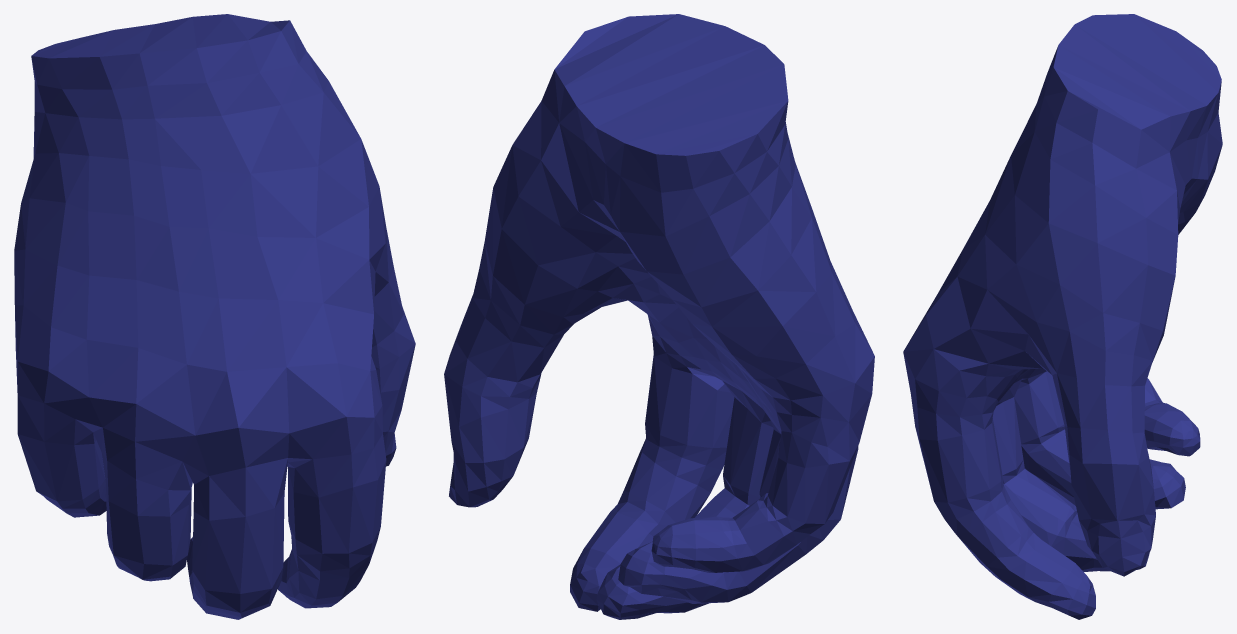
The picture shows the model from 3 angles, left to right: view 1: azimuth 30°, elevation 25°; view 2: azimuth 150°, elevation 25°; view 3: azimuth 270°, elevation 25°; orthographic projection. The views are drawn at different scales.
Bounding box in the file's own units: 0.108 × 0.1554 × 0.0864.
